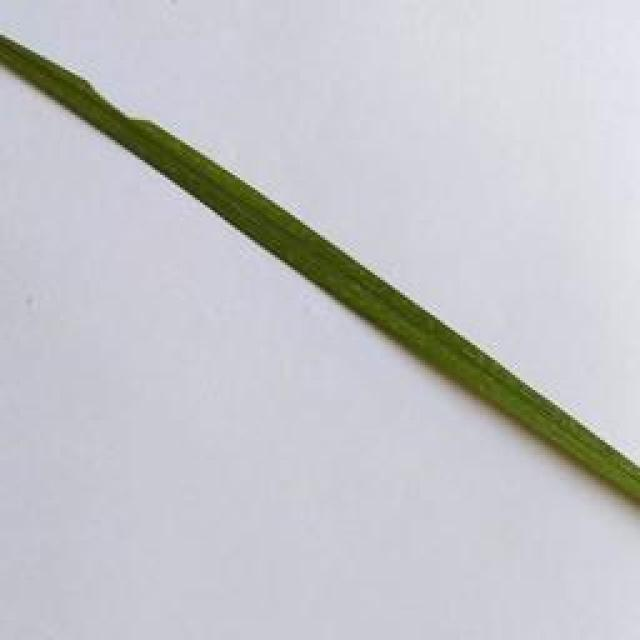Healthy-Plant: (150, 125, 582, 443)
